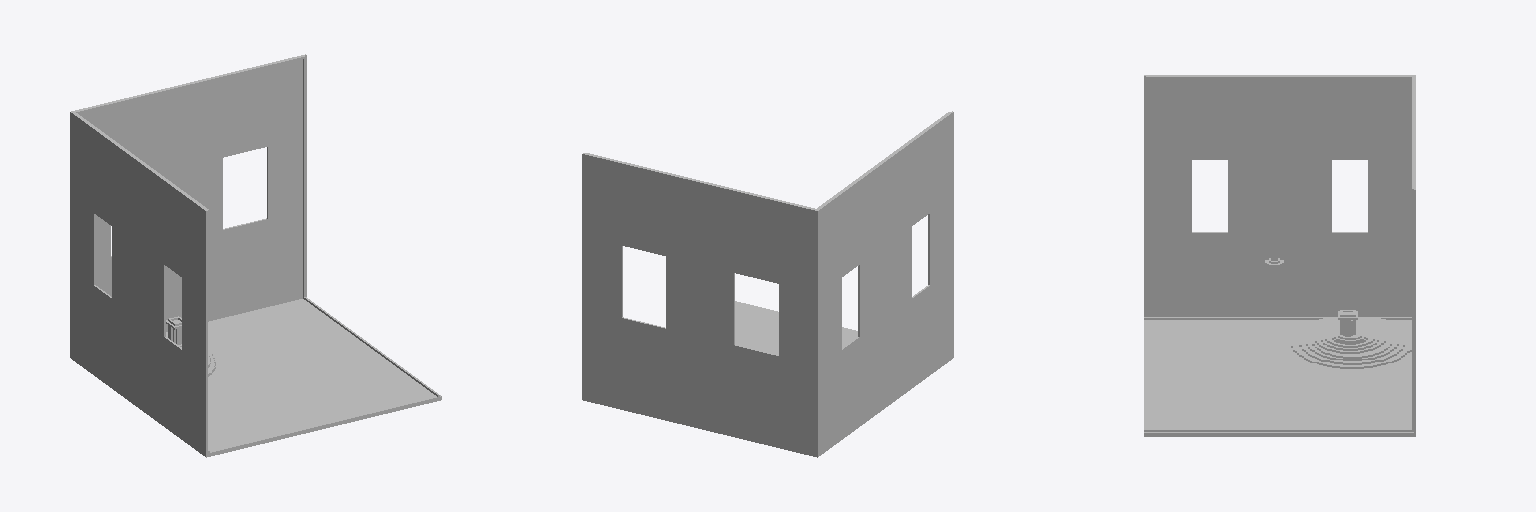
File: room_end.obj
The picture shows the model from 3 angles: view 1: azimuth 30°, elevation 25°; view 2: azimuth 150°, elevation 25°; view 3: azimuth 270°, elevation 25°; orthographic projection.
Size of the model in its own units: 126 by 126 by 126.